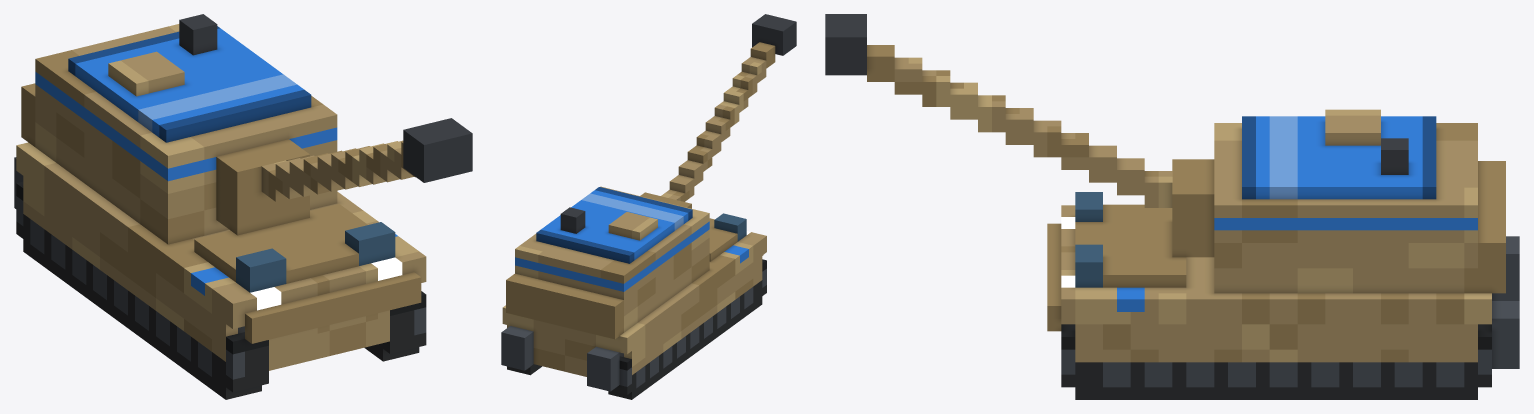
File: cm_artillery_1.glb
3 renders of one model, left to right at view 1: azimuth 30°, elevation 25°; view 2: azimuth 150°, elevation 25°; view 3: azimuth 270°, elevation 25°, orthographic. The views are drawn at different scales.
Parts seen in each view (by area): view 1: cm_artillery_1_body; view 2: cm_artillery_1_body; view 3: cm_artillery_1_body.
Boxes of the visible parts, x1,y1,x2,y2 form: cm_artillery_1_body: [14, 14, 472, 399]; cm_artillery_1_body: [501, 14, 796, 399]; cm_artillery_1_body: [825, 14, 1519, 399].
Size of the model in its own units: 1 by 1.62 by 3.12.
1 material, 1 textured.
